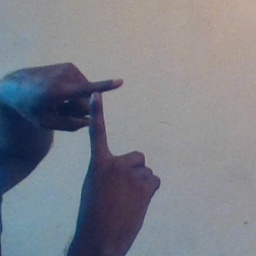T: (49, 65, 143, 177)
